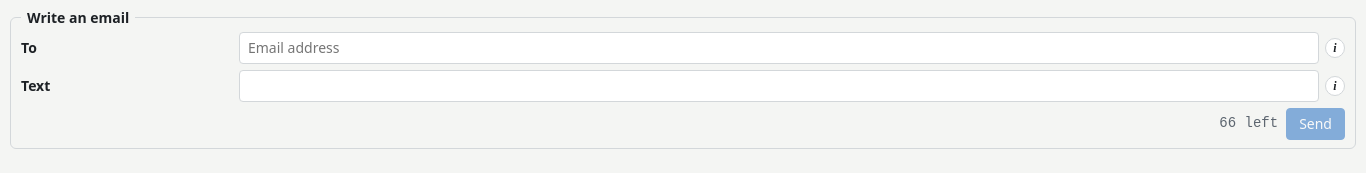
EmailCompose › sends the address as typed, not in capitals, and empties the text but keeps the address, with the focus in the text
The width and height of the screenshot is (1366, 173).
Type " jane@Example.com " into the field with id "mail-to".
click(779, 48); type(" jane@Example.com ")  # box [239,32,1319,64]
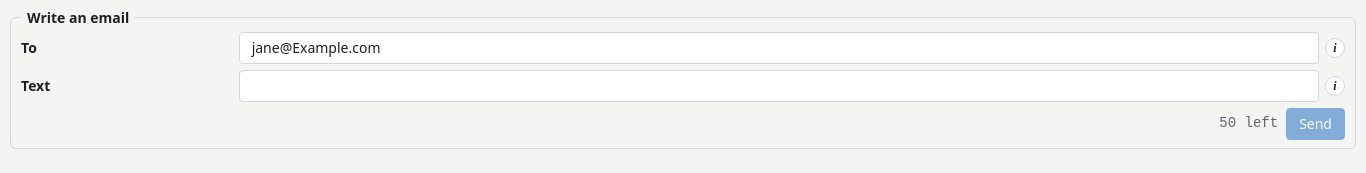
Type "Hello" into the field with id "mail-text".
click(779, 86); type("Hello")  # box [239,70,1319,102]
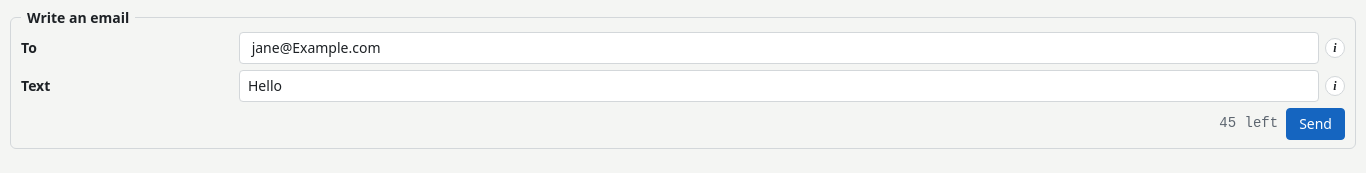
Submit the form
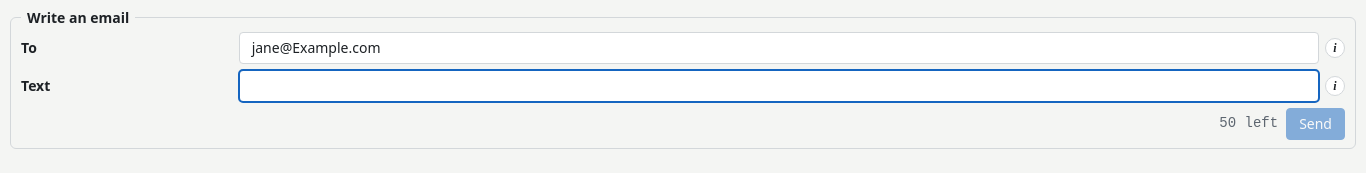
Expected: the submit button is disabled, [1286,108,1345,140]
